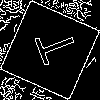T: (25, 25, 79, 71)
